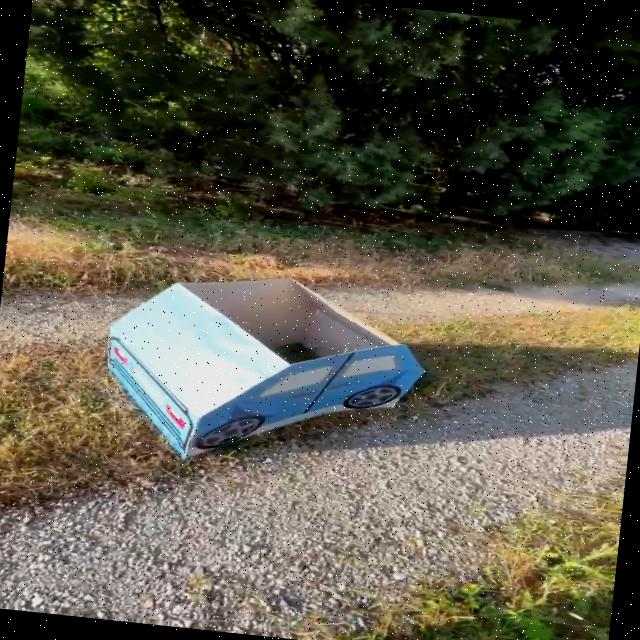blue_car: (23, 230, 489, 509)
